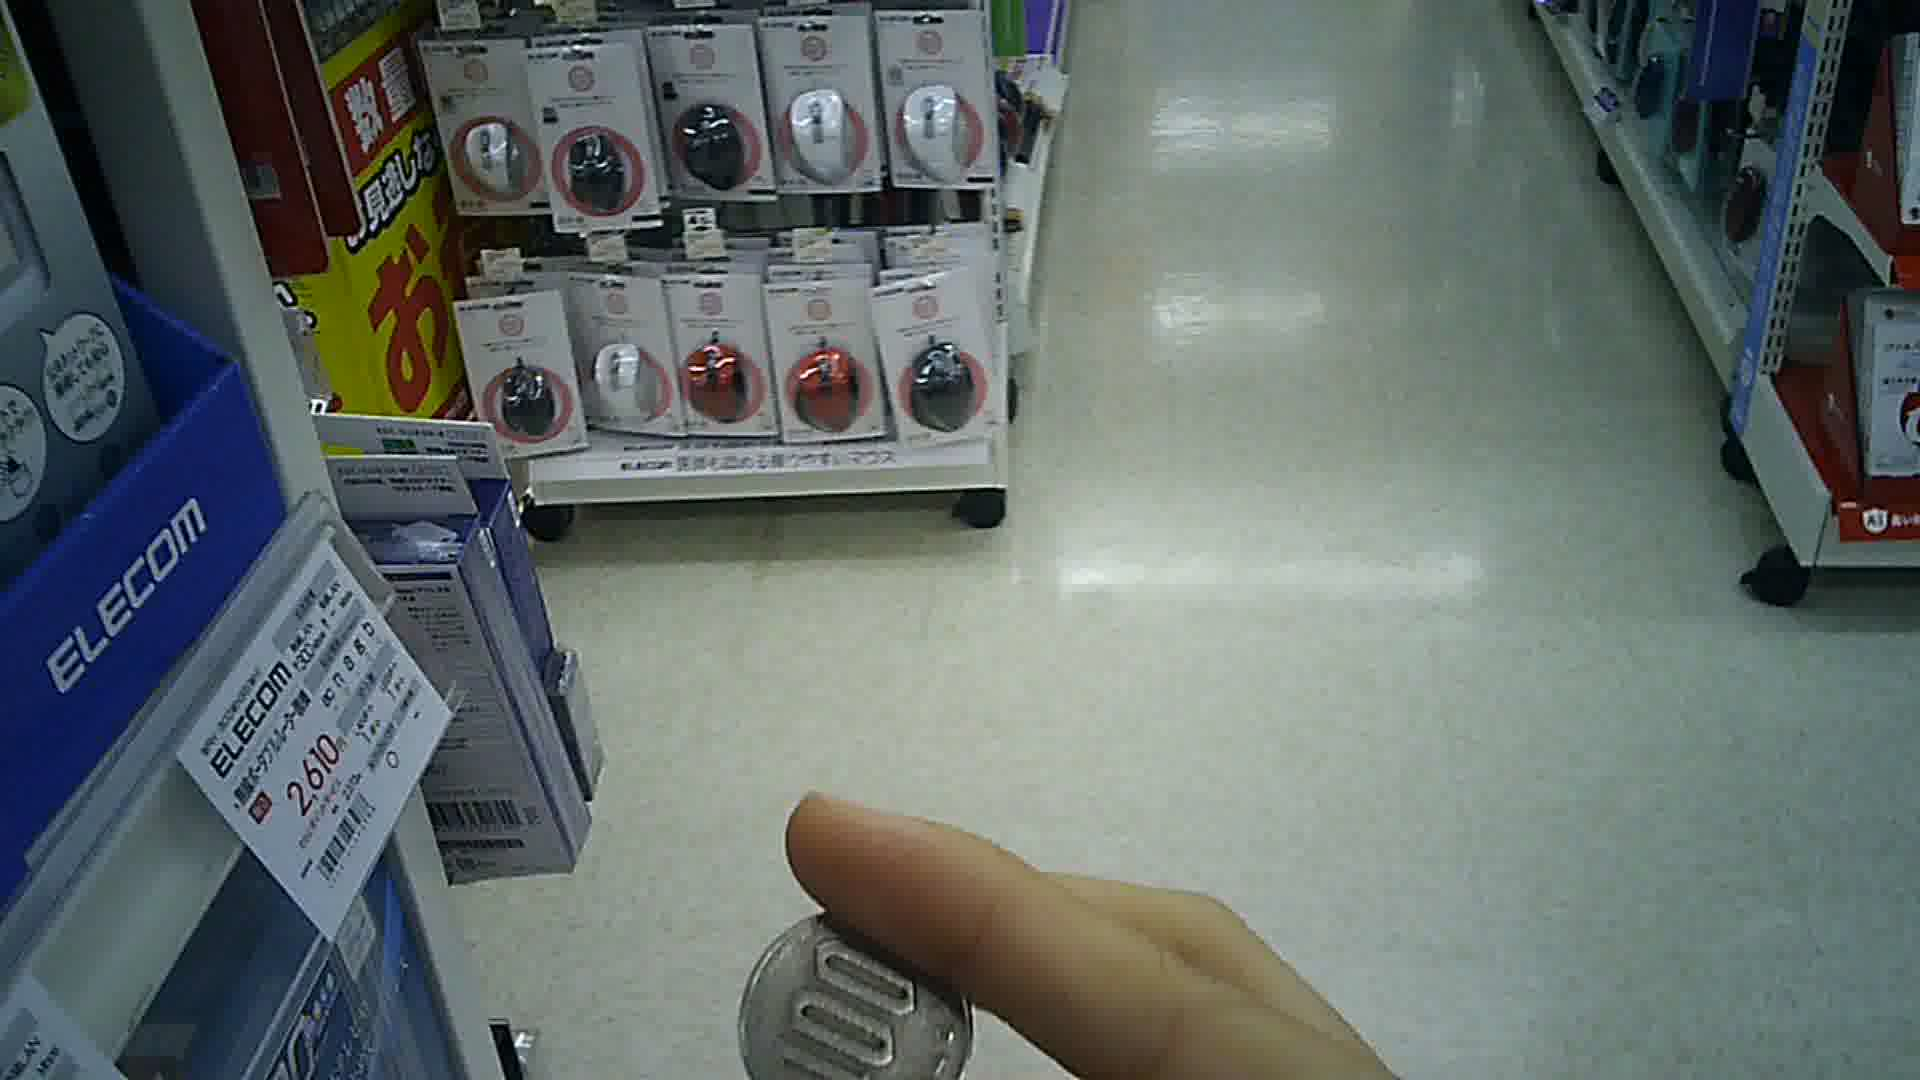100 Yen: (731, 907, 976, 1079)
